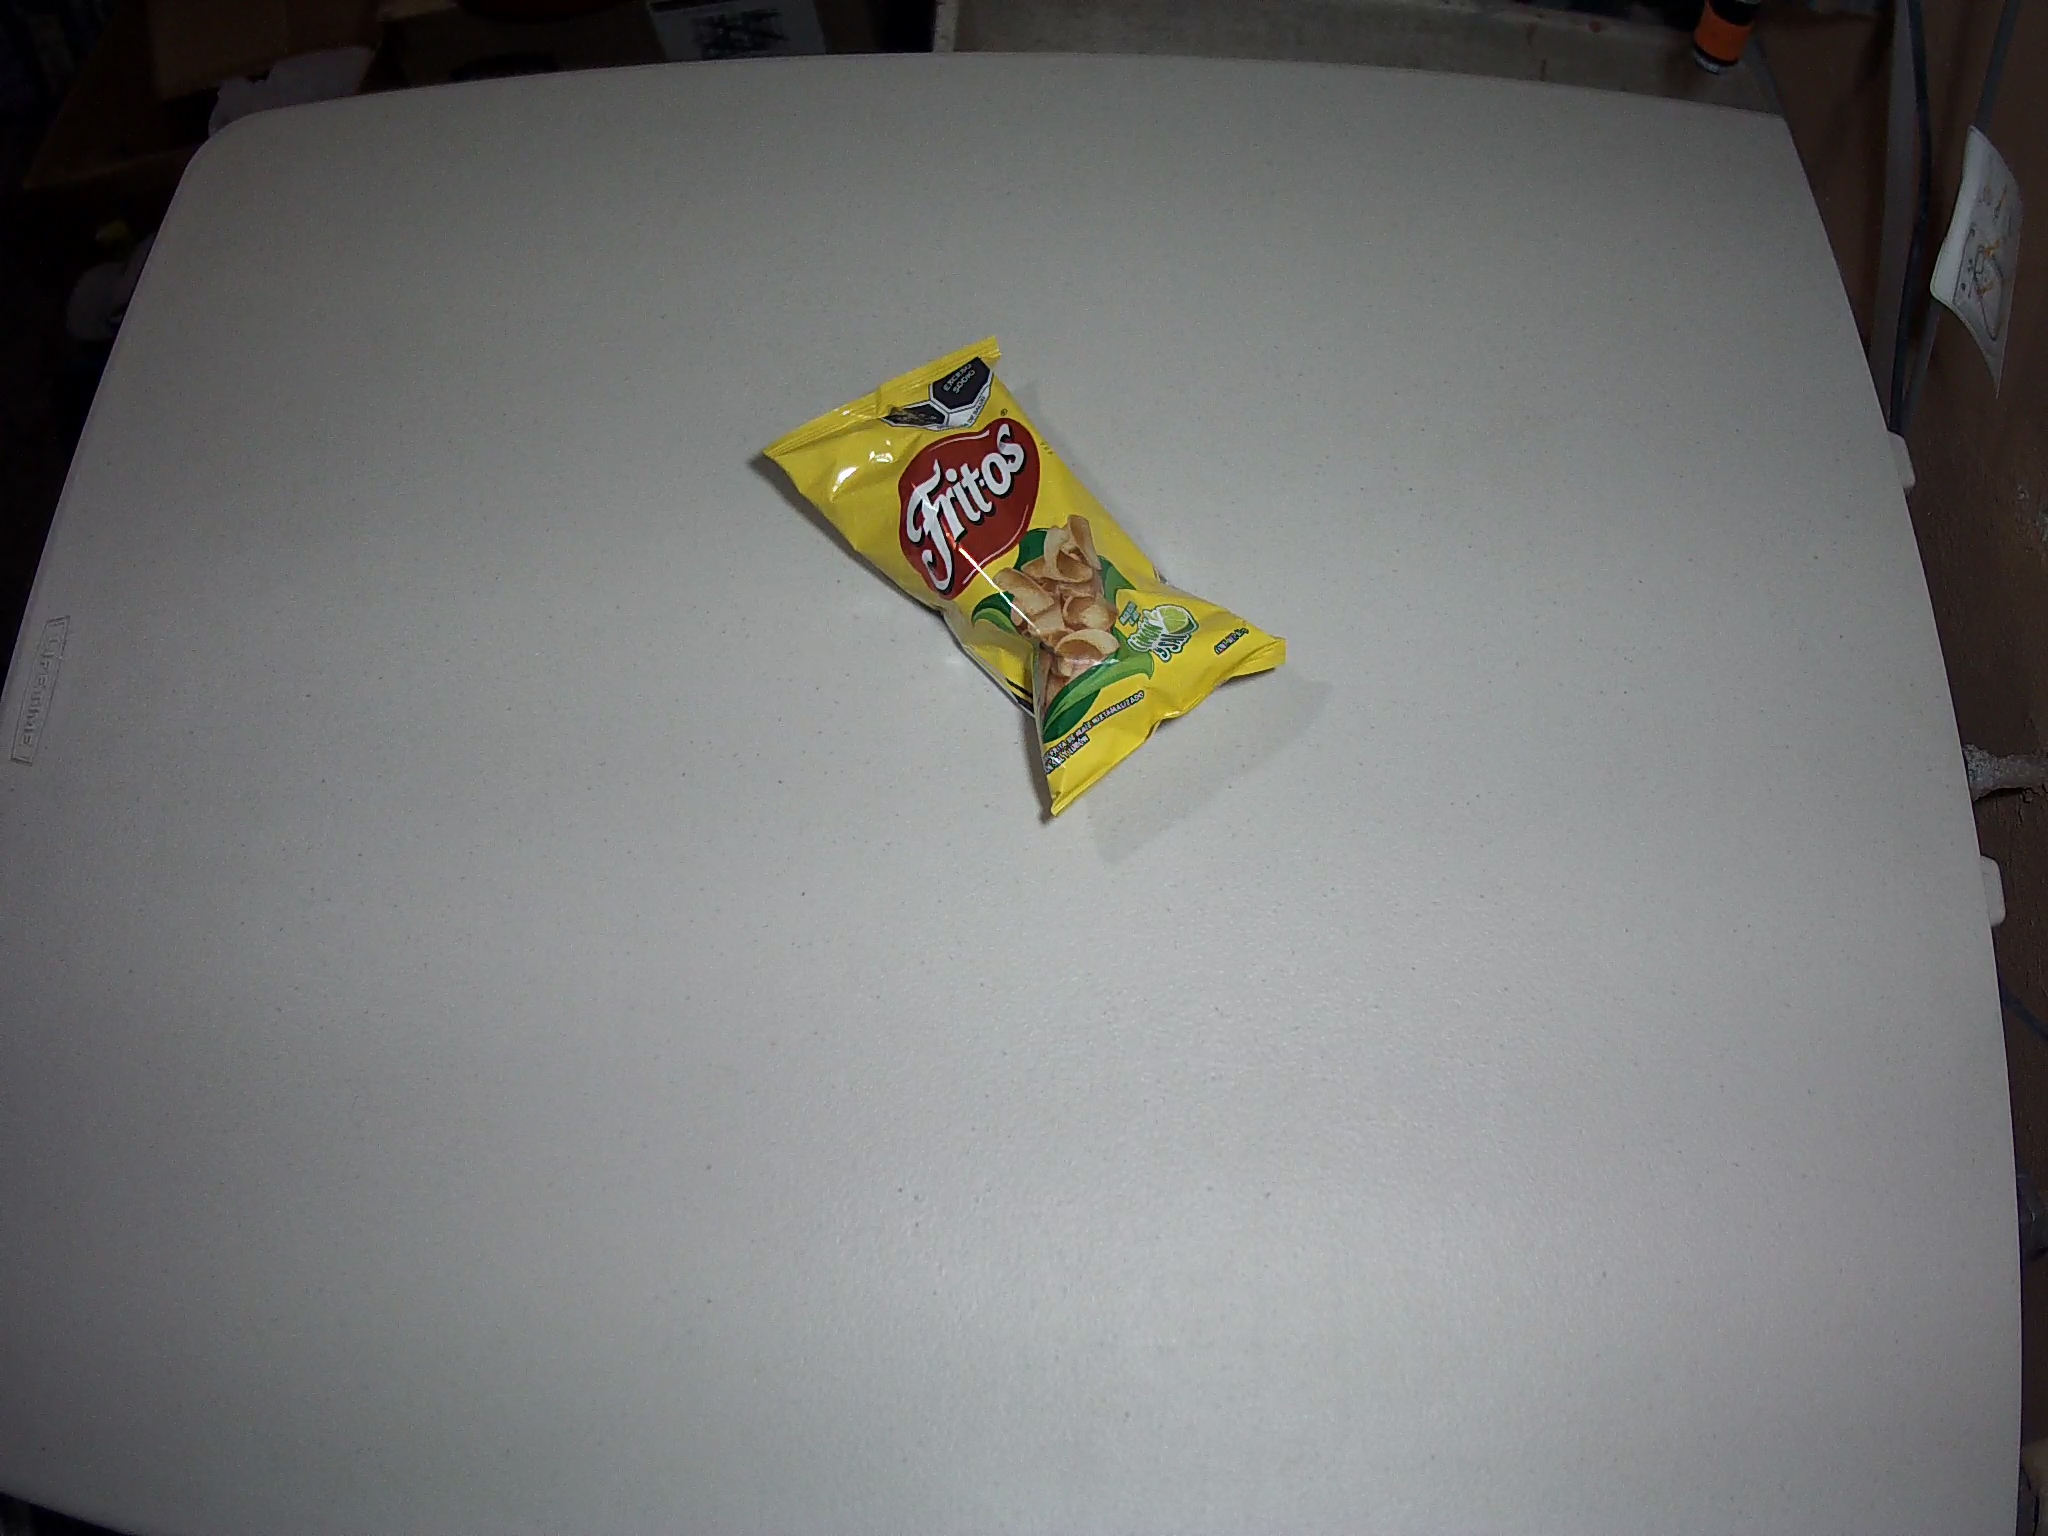FritosSalLimon_65_F: (760, 337, 1290, 818)
